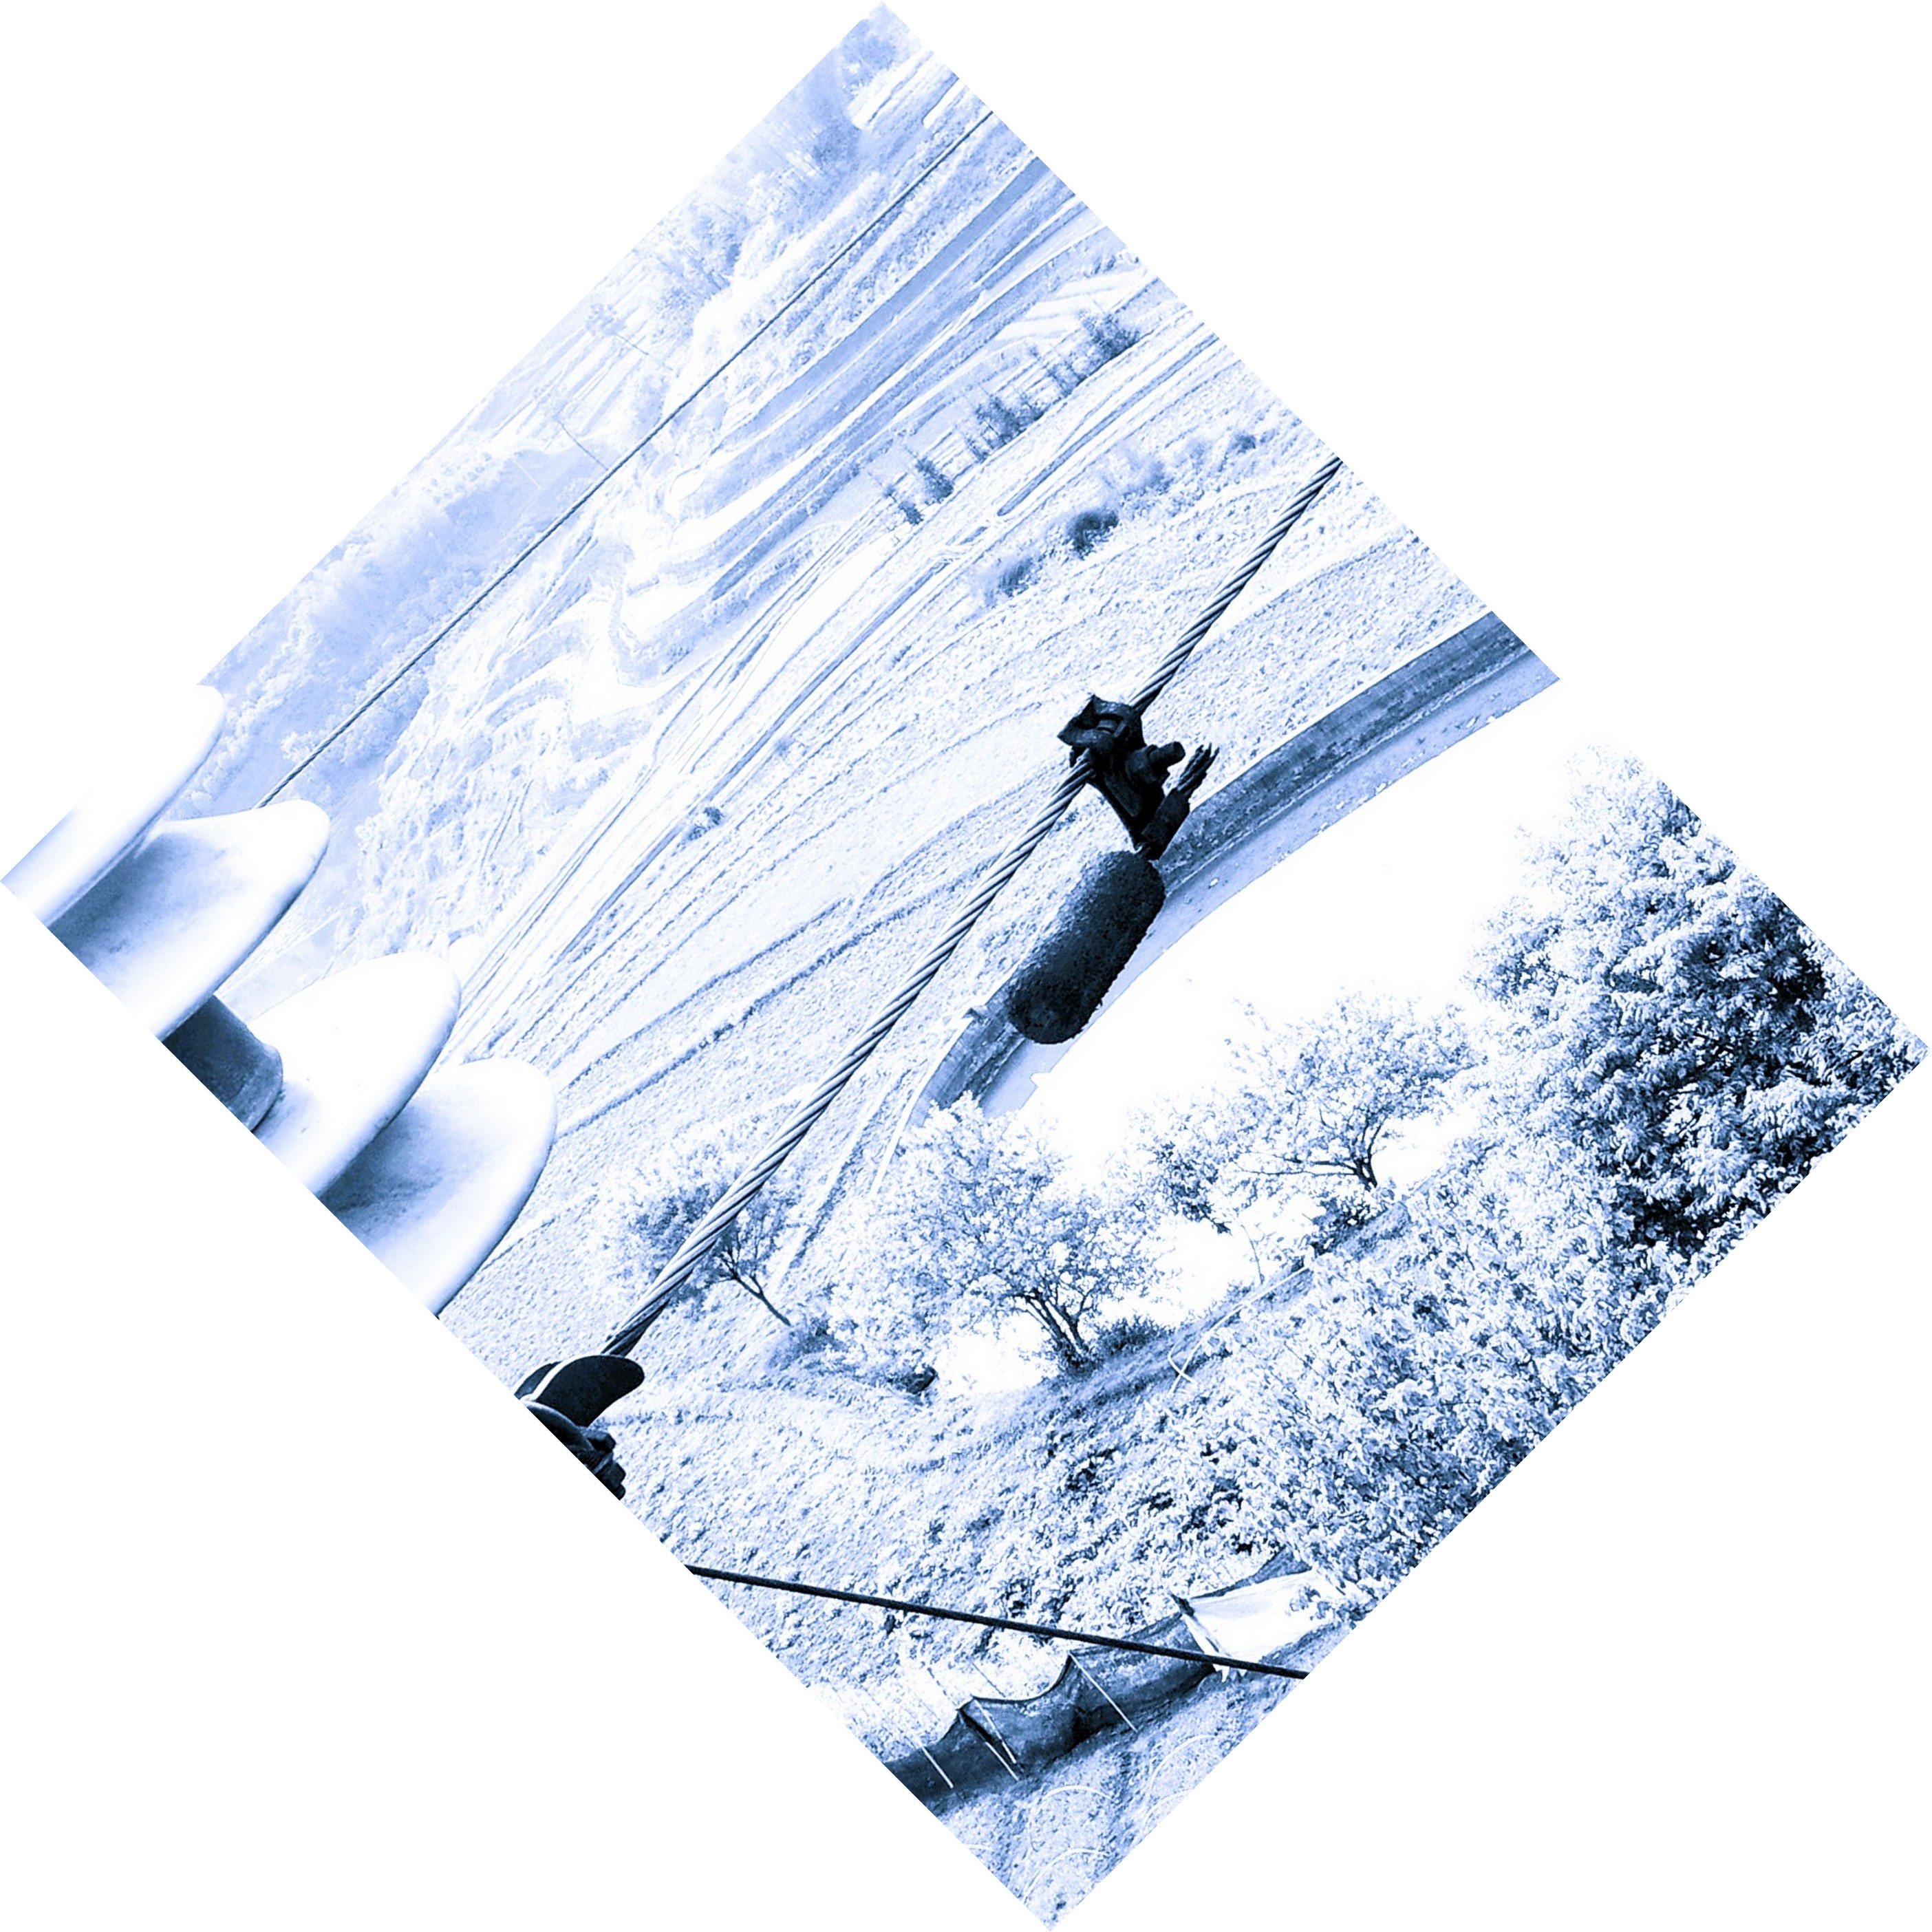Damage of shockproof hammer: (980, 648, 1254, 1083)
